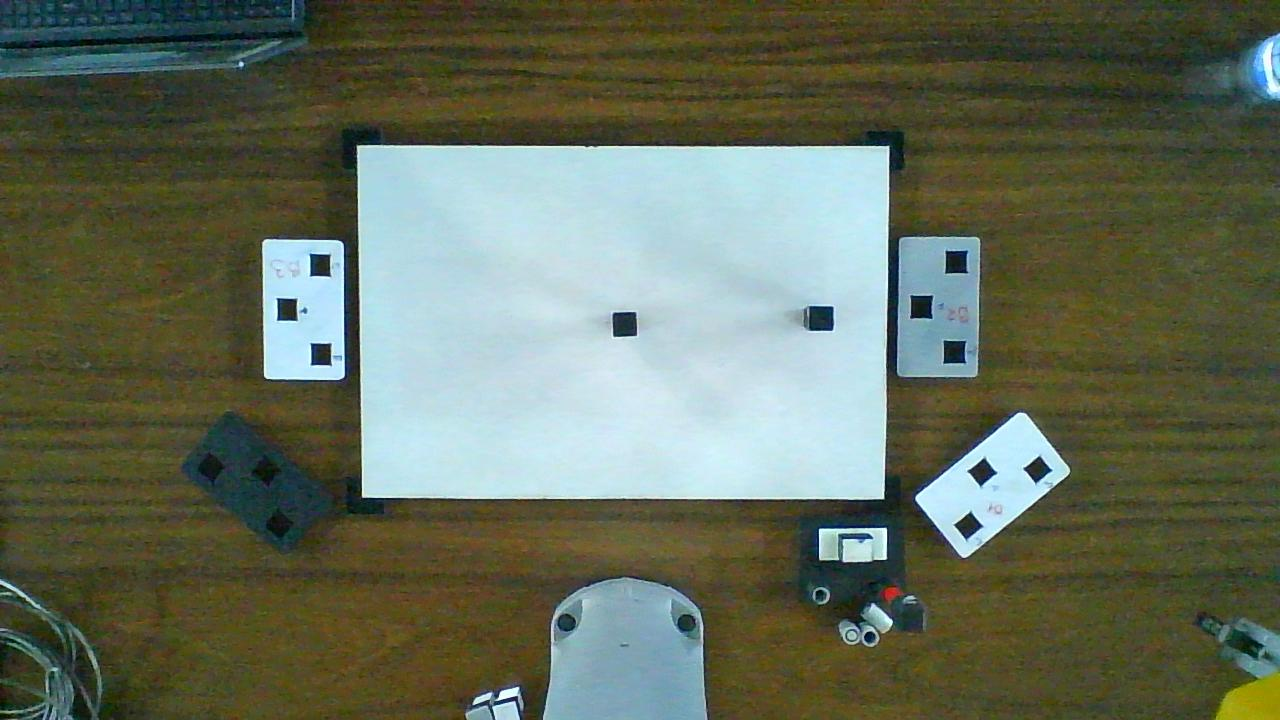peca_preta: (613, 313, 636, 336), (810, 307, 832, 330)
